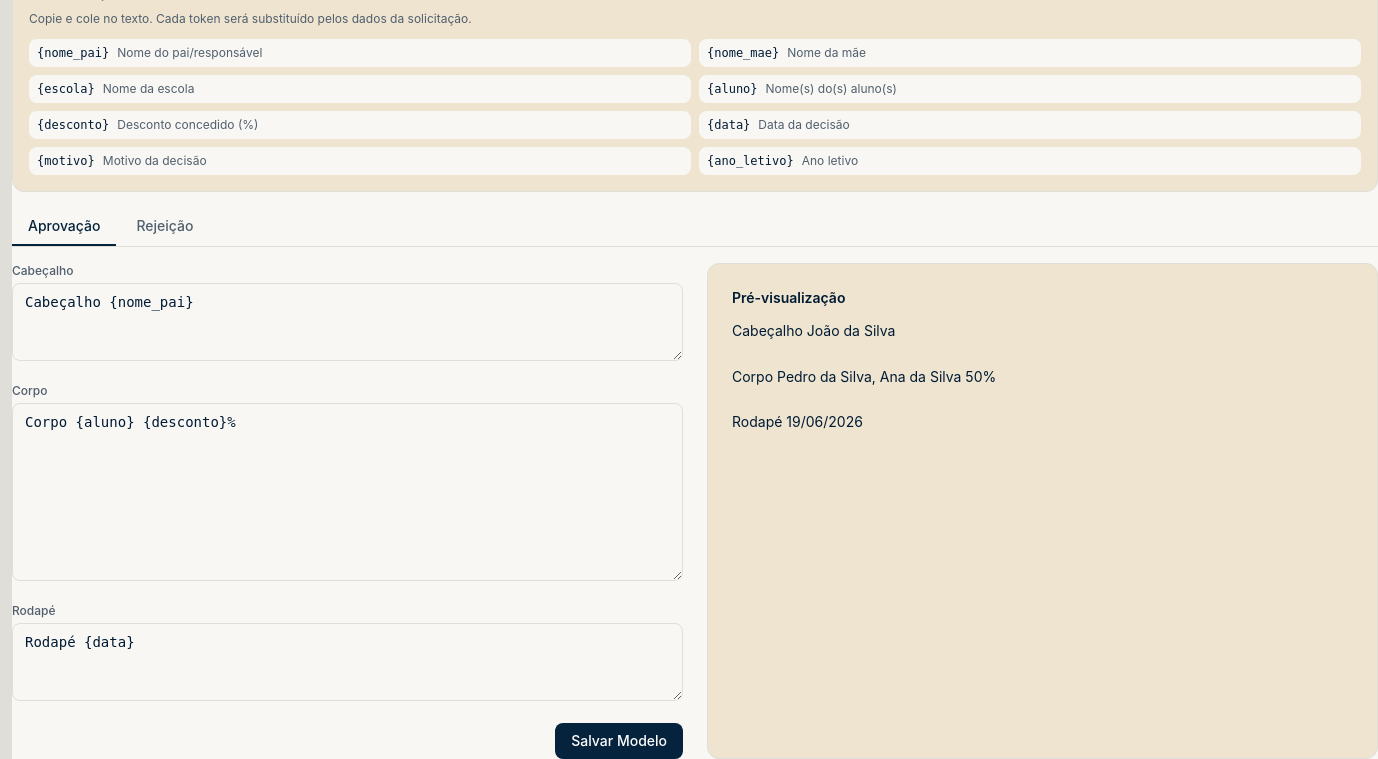
Test case: TemplateEditor › saves template and shows success message
(page scrolled)
Click the button with test id "save-button": (619, 741) [555,723,683,758]
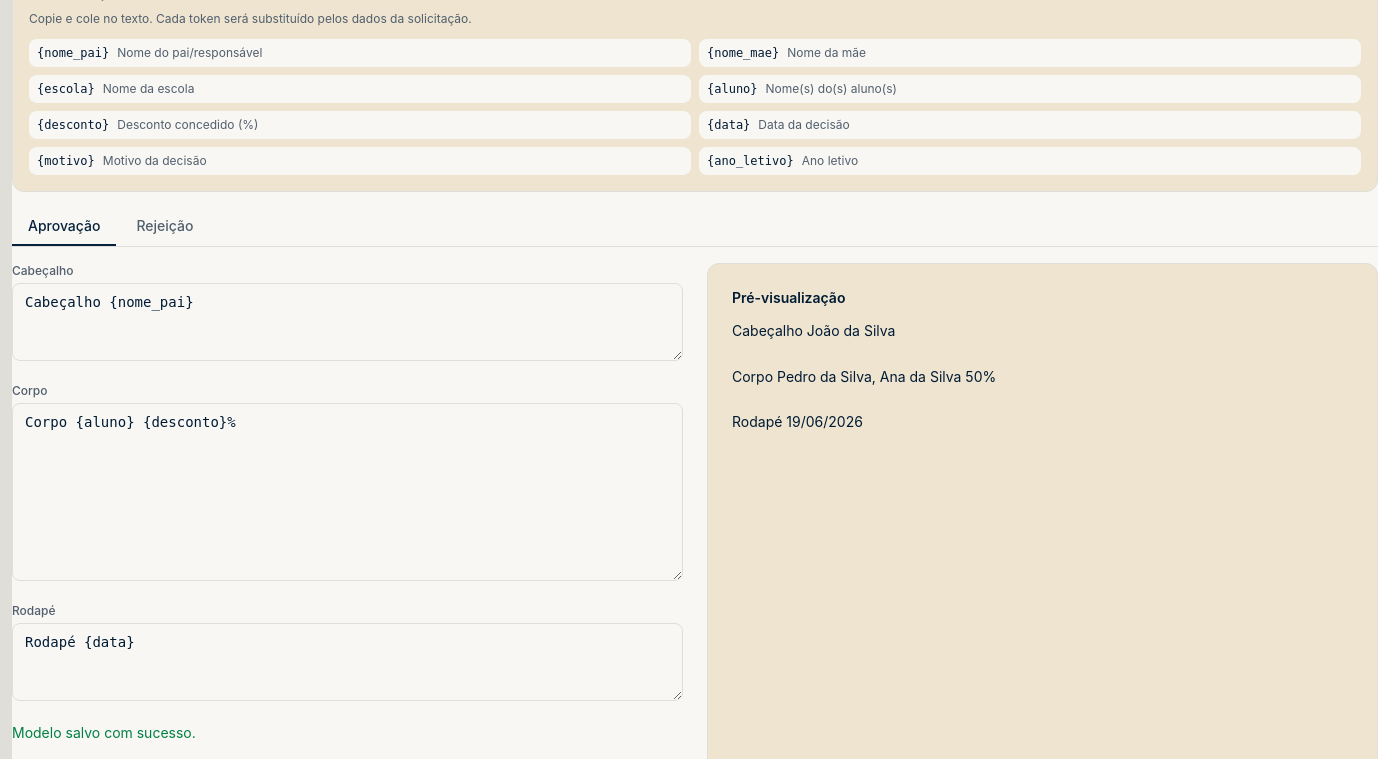
Result: the text with test id "save-message" reads "Modelo salvo com sucesso." at [12,724,196,741]
